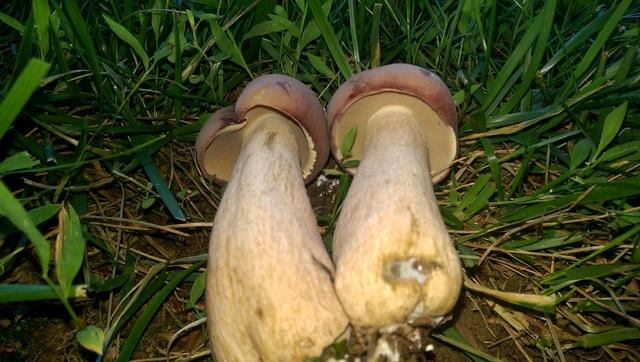Non-edible Mushroom: (193, 72, 351, 360), (326, 61, 464, 359)
